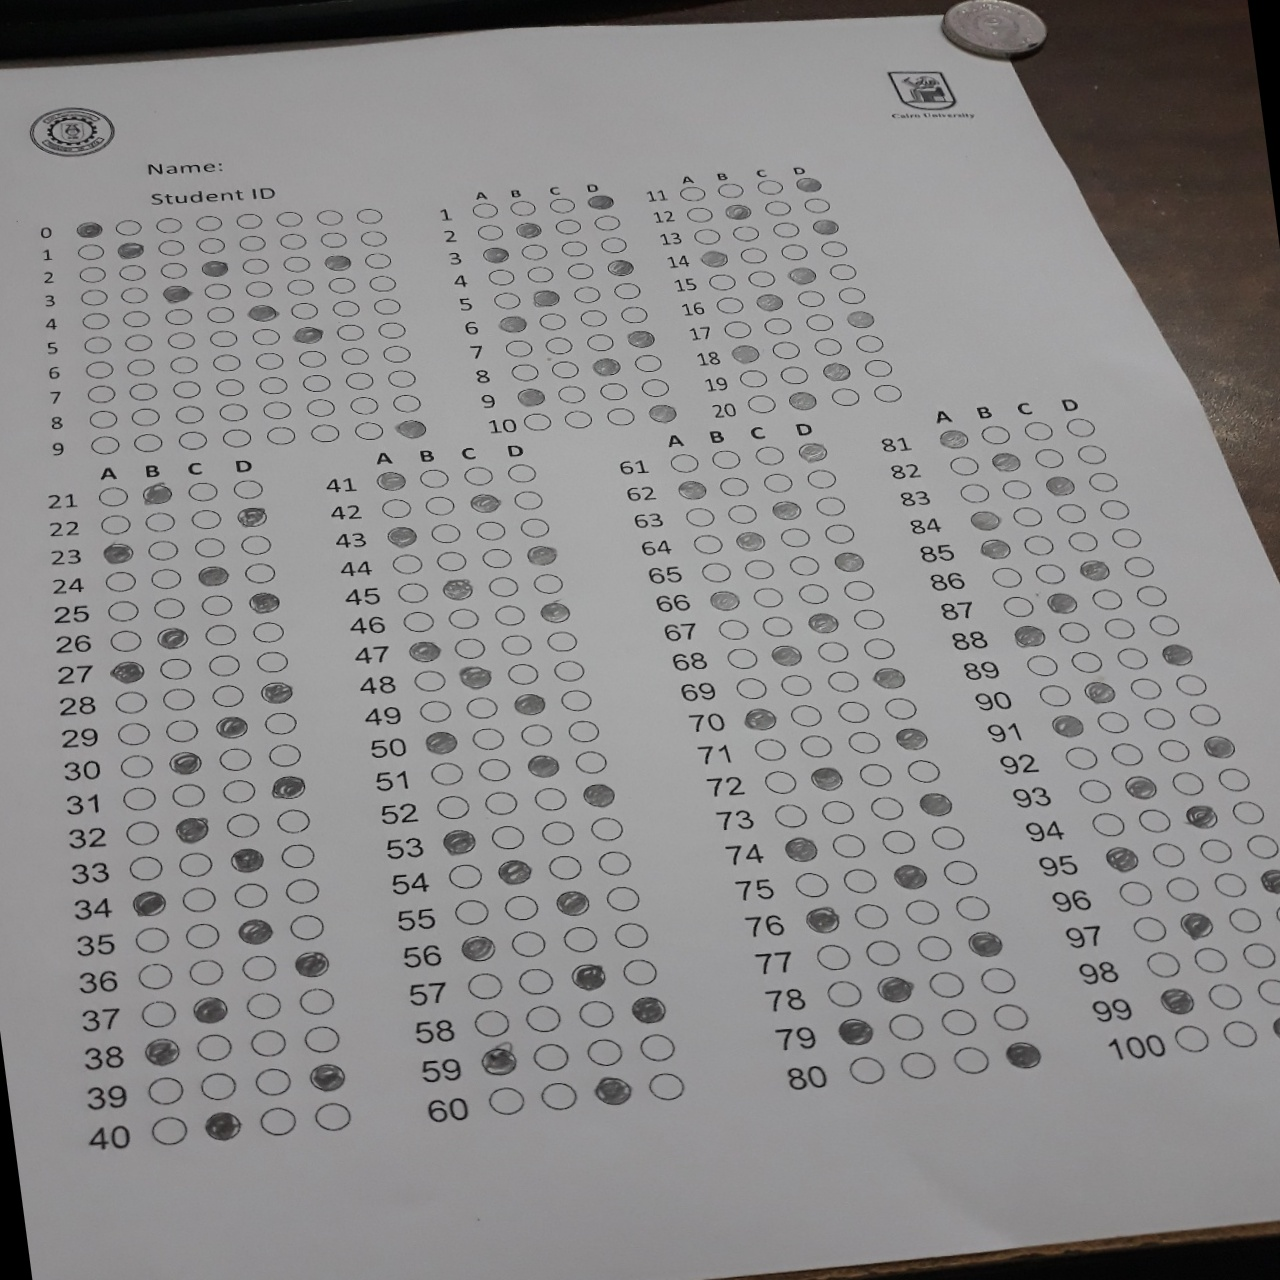not-c: (149, 1115, 191, 1146), (185, 959, 227, 989), (256, 1105, 298, 1136), (144, 1076, 185, 1107), (139, 998, 181, 1028), (136, 960, 176, 990), (313, 1102, 354, 1131), (253, 1067, 294, 1096), (302, 1024, 343, 1054), (248, 1029, 290, 1058), (244, 989, 285, 1019), (237, 951, 278, 980), (282, 874, 324, 904), (132, 922, 173, 952), (297, 986, 336, 1015), (192, 1033, 232, 1062), (286, 912, 326, 941), (508, 930, 549, 958), (610, 920, 651, 948), (474, 1008, 515, 1036), (583, 1037, 624, 1065), (634, 1033, 675, 1061), (647, 1071, 688, 1099), (277, 840, 318, 869), (181, 921, 222, 949), (261, 709, 302, 737), (175, 851, 217, 878), (1220, 1020, 1259, 1049), (816, 942, 855, 972), (794, 869, 832, 898), (978, 967, 1017, 995), (897, 1051, 937, 1080), (847, 1055, 887, 1083), (829, 830, 869, 858), (869, 795, 908, 823), (620, 958, 660, 986), (517, 968, 557, 996), (488, 1085, 527, 1114), (199, 1071, 239, 1099), (561, 926, 602, 953), (524, 1005, 565, 1032), (272, 808, 313, 835), (217, 778, 258, 805), (169, 781, 210, 808), (230, 880, 271, 907), (179, 886, 220, 913), (125, 855, 166, 881), (122, 819, 163, 846), (118, 783, 159, 810), (116, 750, 157, 777), (216, 745, 257, 772), (263, 740, 304, 767), (162, 717, 203, 744), (113, 716, 154, 743), (878, 828, 915, 857), (992, 1003, 1030, 1032), (885, 1013, 924, 1041), (864, 938, 903, 966), (914, 933, 953, 961), (905, 896, 944, 924), (840, 867, 879, 896), (930, 824, 968, 852), (949, 1046, 989, 1073), (576, 1001, 615, 1028), (531, 1043, 571, 1070), (539, 1083, 579, 1110), (224, 810, 264, 837), (156, 686, 197, 712), (1171, 1023, 1208, 1051), (826, 980, 864, 1008), (942, 858, 980, 886), (817, 798, 855, 826), (464, 972, 502, 1000), (939, 1005, 978, 1032), (926, 971, 965, 998), (953, 896, 992, 922), (1144, 951, 1182, 978), (851, 903, 888, 930), (110, 689, 151, 714), (207, 682, 248, 707), (1190, 947, 1228, 973), (723, 644, 760, 670), (1197, 836, 1234, 862), (1148, 842, 1185, 867), (1130, 915, 1167, 941), (1206, 983, 1244, 1009), (762, 769, 799, 795), (905, 756, 942, 782), (845, 730, 883, 756), (796, 731, 833, 757), (750, 737, 788, 763), (787, 702, 824, 728), (862, 636, 899, 662), (433, 794, 470, 819), (154, 655, 195, 679), (188, 535, 229, 558), (1211, 872, 1250, 897), (142, 537, 181, 561), (1240, 941, 1276, 967), (772, 802, 809, 828), (856, 761, 892, 787), (832, 697, 869, 723), (825, 667, 862, 693), (779, 670, 816, 696), (815, 638, 851, 663), (532, 787, 568, 812), (448, 862, 484, 887), (602, 885, 639, 911), (454, 898, 490, 924), (147, 566, 186, 590), (198, 593, 238, 617), (1116, 878, 1153, 903), (1165, 877, 1203, 901), (733, 673, 770, 697), (538, 821, 576, 845), (881, 697, 917, 723), (588, 816, 624, 842), (253, 649, 292, 673), (203, 653, 241, 676), (108, 628, 147, 652), (104, 599, 143, 622), (200, 622, 239, 646), (248, 620, 287, 644), (1135, 808, 1171, 832), (1228, 801, 1265, 825), (776, 524, 812, 549), (546, 855, 583, 879), (594, 850, 631, 874), (503, 896, 539, 920), (1242, 835, 1280, 858), (489, 824, 526, 847), (1107, 741, 1142, 765), (486, 789, 522, 813), (149, 595, 188, 618), (240, 561, 279, 584), (238, 533, 277, 556), (1213, 767, 1250, 790), (1167, 771, 1204, 795), (1228, 908, 1265, 932), (717, 617, 751, 641), (751, 585, 785, 610), (566, 719, 600, 743), (429, 761, 463, 785), (1063, 530, 1101, 552), (988, 565, 1026, 587), (102, 568, 139, 591), (139, 511, 177, 533), (86, 407, 123, 429), (499, 633, 535, 656), (416, 700, 451, 723), (1095, 709, 1131, 731), (1063, 745, 1099, 768), (1157, 738, 1193, 761), (1089, 813, 1125, 836), (516, 723, 552, 745), (1173, 672, 1207, 695), (1143, 704, 1177, 728), (758, 613, 792, 636), (851, 608, 885, 632), (741, 557, 775, 580), (700, 561, 734, 585), (690, 531, 724, 554), (812, 493, 846, 517), (576, 750, 610, 774), (477, 758, 511, 782), (1008, 506, 1046, 527), (1020, 533, 1057, 554), (999, 595, 1036, 617), (1089, 588, 1126, 610), (1143, 614, 1180, 635), (1078, 778, 1114, 801), (797, 583, 832, 605), (723, 501, 758, 523), (543, 629, 578, 652), (549, 661, 584, 683), (411, 669, 447, 692), (463, 696, 498, 719), (470, 727, 505, 749), (1075, 441, 1108, 464), (1050, 502, 1087, 523), (1030, 563, 1067, 584), (1132, 585, 1169, 606), (229, 479, 265, 501), (96, 486, 132, 508), (1189, 704, 1223, 727), (843, 580, 877, 602), (788, 554, 822, 577), (821, 520, 855, 543), (683, 505, 717, 527), (184, 482, 222, 502), (1064, 414, 1096, 437), (948, 454, 980, 477), (1129, 678, 1164, 699), (504, 663, 539, 685), (558, 689, 593, 710), (97, 513, 132, 535), (86, 434, 121, 455), (1088, 471, 1121, 493), (1121, 554, 1153, 577), (980, 421, 1013, 443), (754, 444, 787, 467), (188, 508, 224, 527), (1024, 654, 1058, 675), (1115, 647, 1149, 668), (1037, 685, 1071, 706), (380, 498, 414, 519), (434, 551, 468, 572), (447, 608, 481, 629), (492, 604, 526, 625), (452, 638, 486, 659), (84, 383, 118, 404), (80, 335, 114, 356), (79, 309, 113, 331), (1024, 420, 1056, 442), (1104, 617, 1136, 639), (512, 489, 544, 511), (1099, 498, 1132, 519), (1000, 479, 1033, 501), (1057, 621, 1090, 642), (505, 462, 538, 483), (462, 464, 495, 485), (416, 468, 449, 489), (424, 495, 457, 516), (390, 553, 423, 574), (486, 576, 519, 597), (75, 264, 108, 285), (1070, 652, 1104, 672), (474, 520, 508, 540), (427, 523, 461, 543), (1110, 527, 1142, 549), (960, 482, 992, 503), (520, 518, 552, 539), (169, 377, 200, 399), (1033, 448, 1065, 468), (760, 472, 792, 492), (710, 449, 743, 469), (482, 549, 515, 568), (530, 574, 563, 594), (396, 583, 429, 602), (401, 611, 434, 631), (84, 360, 117, 380), (166, 352, 199, 372), (209, 353, 241, 373), (259, 400, 292, 420), (352, 420, 384, 440), (377, 320, 410, 340), (326, 275, 359, 295), (151, 215, 184, 234), (563, 261, 595, 281), (604, 406, 636, 425), (79, 286, 113, 305), (304, 399, 338, 417), (72, 241, 105, 260), (1257, 978, 1280, 1005), (805, 468, 837, 488), (668, 452, 700, 472), (265, 425, 297, 445), (282, 252, 314, 272), (392, 392, 423, 411), (386, 368, 417, 388), (334, 321, 366, 341), (316, 229, 348, 248), (278, 230, 309, 250), (274, 207, 306, 227), (554, 383, 586, 403), (561, 409, 593, 429), (520, 411, 552, 431), (745, 393, 777, 413), (714, 295, 745, 315), (762, 316, 794, 336), (717, 476, 750, 495), (172, 403, 205, 422), (241, 279, 274, 298), (239, 256, 272, 274), (284, 278, 316, 297), (314, 209, 347, 227), (236, 233, 268, 252), (195, 234, 227, 253), (111, 216, 144, 234), (125, 358, 156, 377), (382, 345, 413, 365), (369, 297, 400, 316), (599, 234, 629, 254), (831, 387, 862, 407), (812, 336, 843, 356), (779, 241, 810, 261), (154, 239, 188, 257), (122, 309, 154, 328), (127, 381, 158, 400), (131, 433, 163, 451), (176, 430, 207, 449), (164, 331, 196, 349), (158, 260, 190, 279), (162, 306, 193, 325), (204, 305, 236, 324), (207, 329, 239, 348), (215, 376, 246, 395), (298, 349, 329, 368), (308, 423, 340, 442), (347, 395, 379, 414), (343, 372, 375, 390), (339, 346, 370, 365), (366, 272, 397, 291), (360, 250, 392, 268), (358, 227, 389, 246), (234, 211, 266, 230), (597, 382, 628, 401), (584, 332, 613, 352), (738, 369, 768, 389), (706, 271, 735, 291), (738, 246, 768, 266), (747, 267, 776, 287), (301, 374, 334, 392), (123, 333, 154, 352), (219, 402, 250, 421), (222, 427, 252, 445), (252, 326, 282, 345), (354, 205, 384, 224), (193, 213, 224, 232), (779, 366, 810, 384), (797, 288, 828, 307), (864, 358, 894, 376), (476, 222, 504, 241), (819, 239, 847, 259), (203, 281, 234, 299), (257, 375, 288, 393), (253, 350, 285, 368), (331, 300, 362, 318), (619, 306, 651, 324), (836, 286, 867, 304), (871, 384, 903, 402), (120, 284, 149, 302), (508, 197, 537, 216), (538, 312, 567, 331), (505, 339, 535, 358), (613, 281, 642, 300), (592, 212, 621, 231), (640, 377, 669, 396), (723, 319, 753, 338), (802, 196, 831, 215), (692, 226, 721, 245), (290, 302, 320, 320), (572, 285, 602, 302), (543, 336, 573, 354), (546, 196, 574, 215), (554, 217, 583, 236), (520, 241, 549, 260), (486, 267, 515, 286), (493, 290, 522, 308), (772, 340, 801, 359), (806, 312, 835, 331), (117, 263, 147, 280), (130, 409, 159, 427), (525, 265, 554, 282), (559, 239, 588, 257), (578, 309, 607, 327), (509, 363, 538, 381), (550, 360, 579, 377), (633, 354, 662, 372), (828, 263, 857, 280), (855, 334, 884, 352), (764, 199, 794, 217), (755, 177, 784, 195), (733, 224, 762, 241), (472, 200, 501, 218), (771, 220, 799, 238), (683, 204, 712, 222), (716, 181, 745, 197), (678, 184, 707, 200), (1269, 904, 1280, 930)
taken-c: (1003, 1041, 1043, 1071), (874, 973, 913, 1003), (836, 1017, 874, 1048), (570, 961, 610, 990), (139, 1037, 181, 1065), (804, 905, 843, 934), (781, 835, 822, 862), (493, 858, 535, 885), (592, 1077, 633, 1104), (203, 1112, 244, 1139), (189, 998, 230, 1024), (1157, 985, 1194, 1014), (966, 930, 1005, 958), (459, 933, 499, 960), (481, 1048, 520, 1075), (308, 1063, 348, 1090), (290, 949, 329, 976), (234, 917, 274, 944), (552, 890, 593, 915), (806, 765, 845, 792), (628, 996, 667, 1023), (268, 774, 307, 801), (917, 791, 956, 817), (129, 888, 166, 915), (891, 726, 930, 751), (170, 817, 209, 843), (742, 706, 779, 731), (227, 847, 265, 873), (108, 659, 145, 685), (1177, 910, 1212, 937), (440, 828, 476, 853), (156, 625, 192, 651), (870, 666, 907, 690), (829, 549, 866, 573), (259, 680, 297, 704), (1104, 846, 1139, 872), (769, 642, 805, 667), (166, 751, 203, 776), (891, 865, 928, 888), (1124, 774, 1158, 799), (806, 611, 842, 635), (704, 587, 740, 612), (213, 715, 248, 740), (440, 578, 475, 601), (408, 640, 443, 663), (423, 731, 458, 755), (244, 590, 279, 613), (195, 563, 230, 586), (233, 504, 268, 527), (100, 540, 136, 563), (1184, 805, 1217, 830), (734, 529, 767, 553), (1046, 591, 1080, 614), (966, 508, 1001, 530), (1075, 559, 1110, 581), (1048, 714, 1083, 736), (535, 601, 570, 624), (458, 667, 493, 689), (509, 693, 544, 715), (523, 754, 558, 776), (579, 784, 614, 806), (978, 537, 1012, 559), (1201, 736, 1235, 758), (769, 498, 803, 520), (384, 526, 418, 549), (139, 482, 173, 504), (1158, 644, 1193, 665), (1082, 682, 1117, 703), (1012, 625, 1046, 646), (467, 492, 499, 513), (796, 441, 828, 462), (496, 313, 527, 334), (937, 428, 969, 448), (988, 451, 1021, 471), (676, 479, 709, 499), (524, 545, 557, 565), (374, 471, 407, 491), (394, 418, 427, 438), (622, 327, 655, 347), (787, 390, 817, 411), (516, 387, 547, 407), (647, 402, 679, 422), (787, 264, 816, 285), (697, 248, 728, 268), (729, 343, 760, 363), (1257, 869, 1280, 894), (1046, 475, 1077, 493), (114, 239, 145, 258), (604, 257, 635, 275), (843, 309, 874, 328), (159, 282, 189, 302), (482, 244, 511, 264), (586, 192, 617, 211), (722, 202, 753, 220), (821, 362, 849, 382), (246, 304, 278, 321), (292, 326, 324, 343), (321, 252, 353, 270), (74, 219, 103, 238), (530, 288, 559, 307), (592, 358, 621, 376), (753, 293, 783, 311), (812, 216, 840, 234), (794, 176, 823, 193), (515, 220, 542, 239), (199, 260, 230, 277), (1269, 1014, 1280, 1043)
